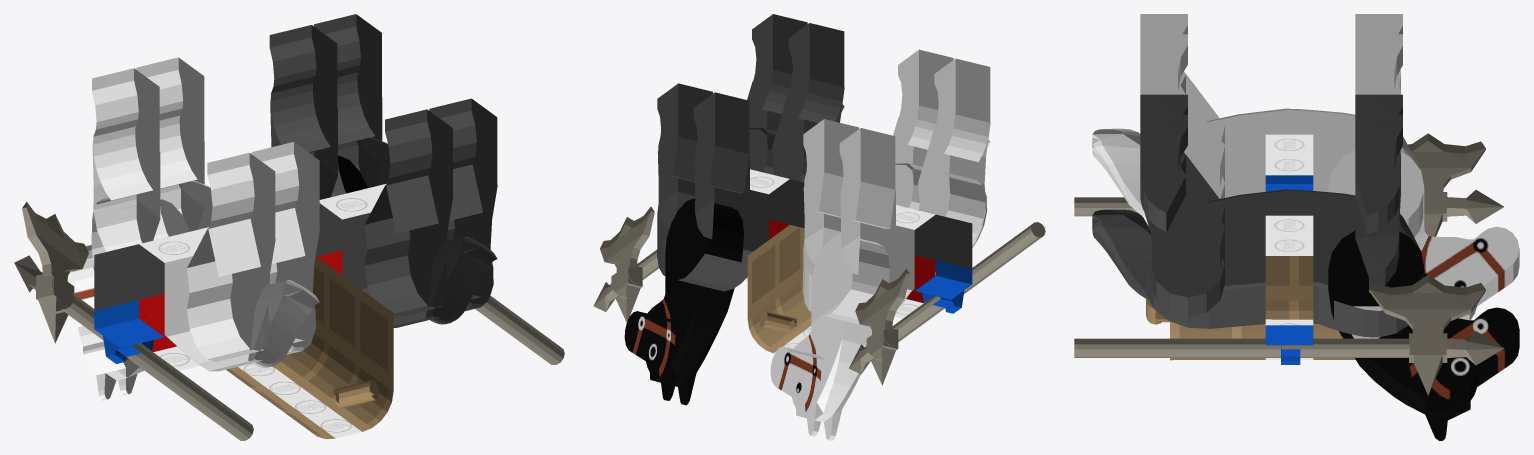
3 renders of one model, left to right at view 1: azimuth 30°, elevation 25°; view 2: azimuth 150°, elevation 25°; view 3: azimuth 270°, elevation 25°, orthographic. The views are drawn at different scales.
Visible parts, largest first — view 1: 004_OC_6095B3_Chest, 020_OC_6095B3_Link_bar, 016_OC_6095B3_Axe, 074_shape34, 032_shape15, 086_shape38, 044_shape19, 083_shape36, 041_shape17, 080_shape34, 038_shape15, 068_shape30 (+14 smaller); view 2: 053_shape21, 095_shape21, 020_OC_6095B3_Link_bar, 004_OC_6095B3_Chest, 016_OC_6095B3_Axe, 074_shape34, 032_shape15, 083_shape36, 026_shape11, 086_shape38, 044_shape19, 068_shape30 (+12 smaller); view 3: 026_shape11, 012_OC_6095B3_Axe, 053_shape21, 068_shape30, 047_shape17, 095_shape21, 016_OC_6095B3_Axe, 004_OC_6095B3_Chest, 038_shape15, 050_shape19, 056_shape23, 080_shape34 (+11 smaller).
Part boxes in pixels (left/top/right/bottom): 004_OC_6095B3_Chest: left=226, top=256, right=393, bottom=439; 020_OC_6095B3_Link_bar: left=94, top=203, right=342, bottom=370; 016_OC_6095B3_Axe: left=14, top=202, right=253, bottom=440; 074_shape34: left=92, top=68, right=159, bottom=200; 032_shape15: left=269, top=25, right=337, bottom=152; 086_shape38: left=207, top=152, right=275, bottom=276; 044_shape19: left=385, top=109, right=452, bottom=233; 083_shape36: left=187, top=228, right=275, bottom=361; 041_shape17: left=364, top=185, right=453, bottom=318; 080_shape34: left=136, top=57, right=204, bottom=188; 038_shape15: left=314, top=14, right=381, bottom=144; 068_shape30: left=91, top=180, right=315, bottom=371; 053_shape21: left=624, top=198, right=743, bottom=405; 095_shape21: left=770, top=234, right=889, bottom=440; 020_OC_6095B3_Link_bar: left=745, top=179, right=972, bottom=318; 004_OC_6095B3_Chest: left=747, top=225, right=811, bottom=353; 016_OC_6095B3_Axe: left=849, top=222, right=1045, bottom=385; 074_shape34: left=839, top=128, right=895, bottom=228; 032_shape15: left=693, top=92, right=749, bottom=193; 083_shape36: left=917, top=114, right=990, bottom=239; 026_shape11: left=657, top=127, right=803, bottom=291; 086_shape38: left=934, top=58, right=990, bottom=161; 044_shape19: left=788, top=23, right=844, bottom=122; 068_shape30: left=803, top=163, right=987, bottom=326; 026_shape11: left=1146, top=189, right=1423, bottom=337; 012_OC_6095B3_Axe: left=1074, top=275, right=1504, bottom=395; 053_shape21: left=1328, top=231, right=1519, bottom=440; 068_shape30: left=1207, top=108, right=1423, bottom=236; 047_shape17: left=1140, top=175, right=1224, bottom=317; 095_shape21: left=1328, top=150, right=1519, bottom=320; 016_OC_6095B3_Axe: left=1074, top=133, right=1503, bottom=236; 004_OC_6095B3_Chest: left=1146, top=256, right=1355, bottom=360; 038_shape15: left=1355, top=115, right=1402, bottom=234; 050_shape19: left=1140, top=115, right=1187, bottom=232; 056_shape23: left=1092, top=209, right=1152, bottom=300; 080_shape34: left=1355, top=34, right=1402, bottom=94.
Size of the model in its own units: 6.4 by 5.92 by 7.45.
11 materials, 3 textured.
